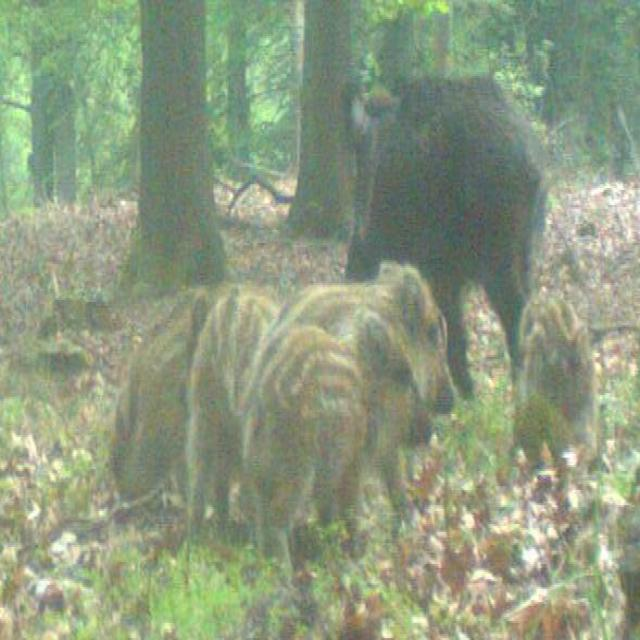pig: (322, 10, 538, 356), (241, 306, 429, 568), (94, 236, 217, 538), (267, 245, 470, 371), (189, 261, 281, 499), (514, 250, 613, 432)
